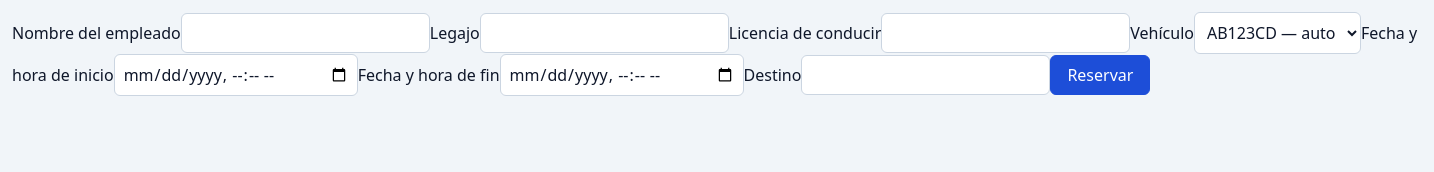
ReservaForm › muestra un mensaje de éxito tras crear la reserva (201)
This screenshot has width=1434, height=172.
In the field labelled "Nombre del empleado": (305, 33) [181,13,430,53], type "Juan Pérez"
In the field labelled "Legajo": (604, 33) [480,13,729,53], type "1234"
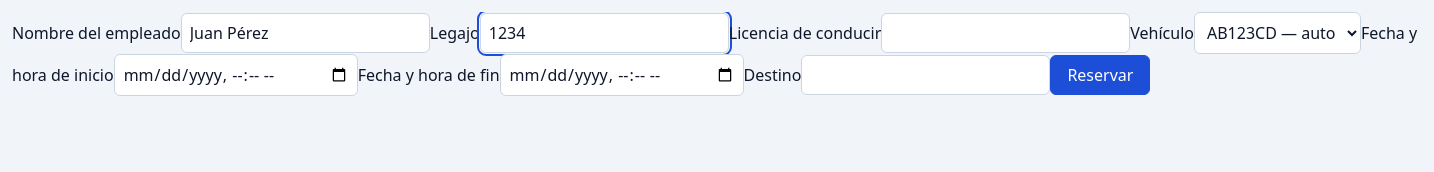
In the field labelled "Licencia de conducir": (1006, 33) [881,13,1130,53], type "5678"
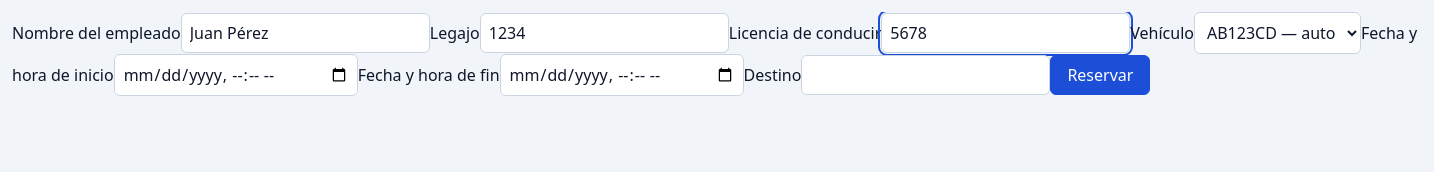
In the field labelled "Fecha y hora de inicio": (236, 75) [114,54,358,96], type "2026-08-10T10:00"
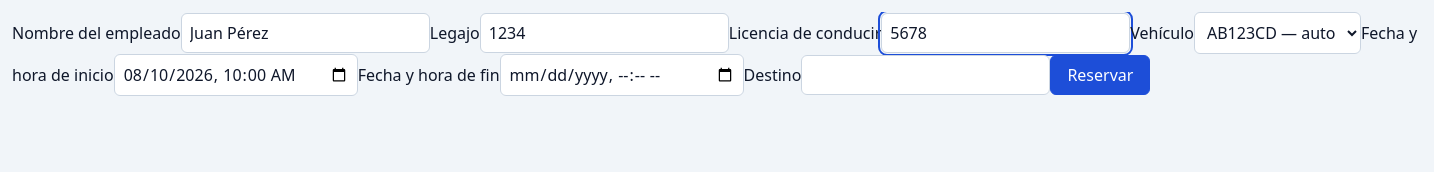
In the field labelled "Fecha y hora de fin": (622, 75) [500,54,744,96], type "2026-08-10T12:00"
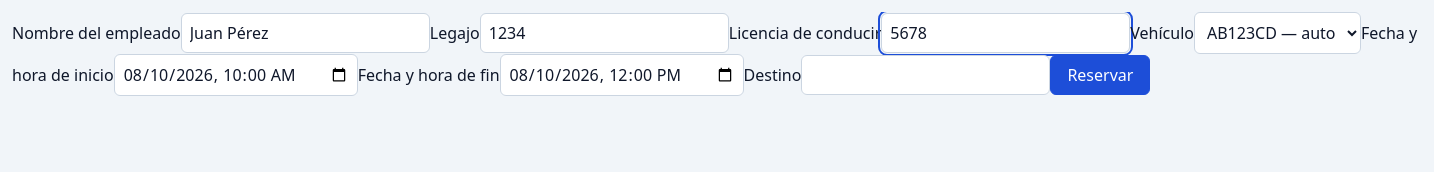
In the field labelled "Destino": (926, 75) [801,55,1050,95], type "Sucursal Norte"
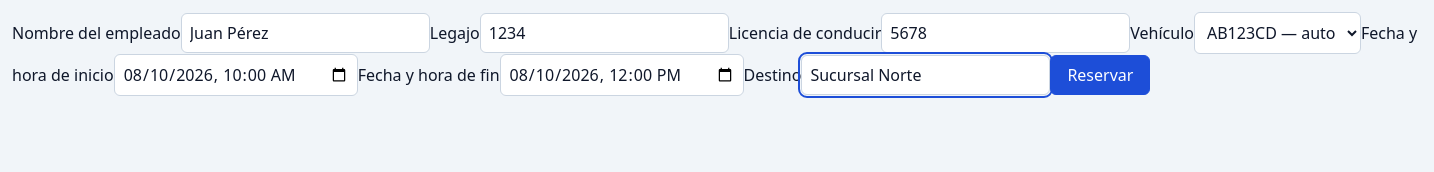
Click the button "Reservar": (1100, 75) [1050,55,1150,95]
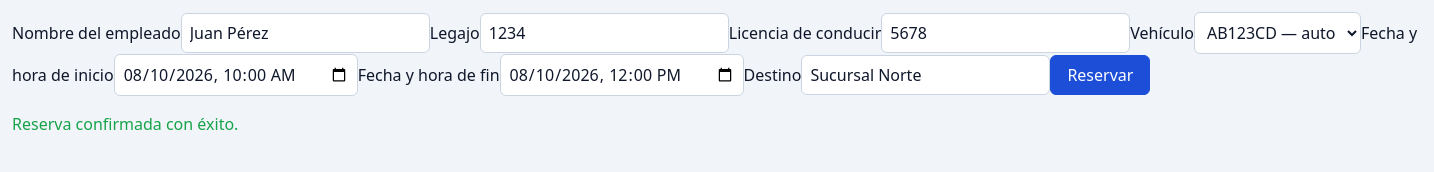
Check: the message shows "éxito", box [12,113,238,135]
